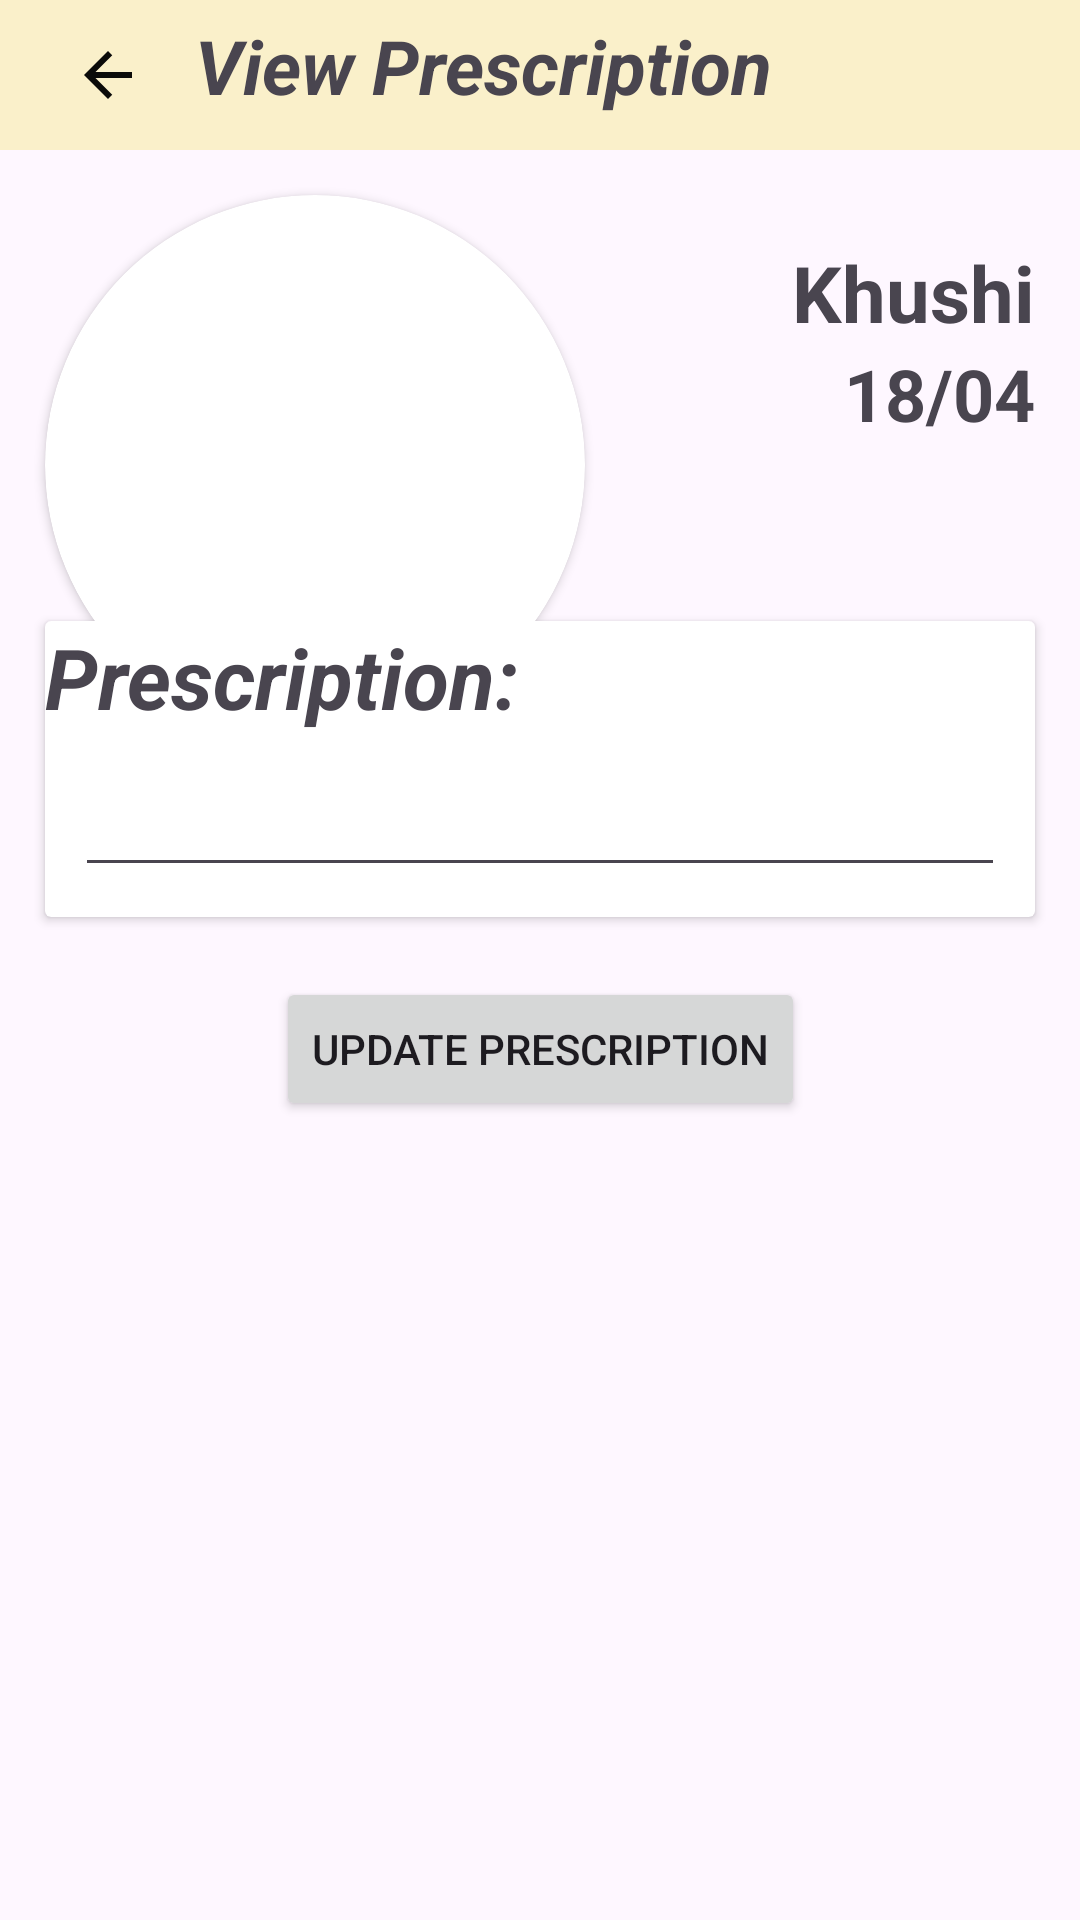

Named icons in this screenshot (1080x1920) and their bounding boxes, (x1, y1, x2, y2):
back arrow: (84, 51, 132, 99)
